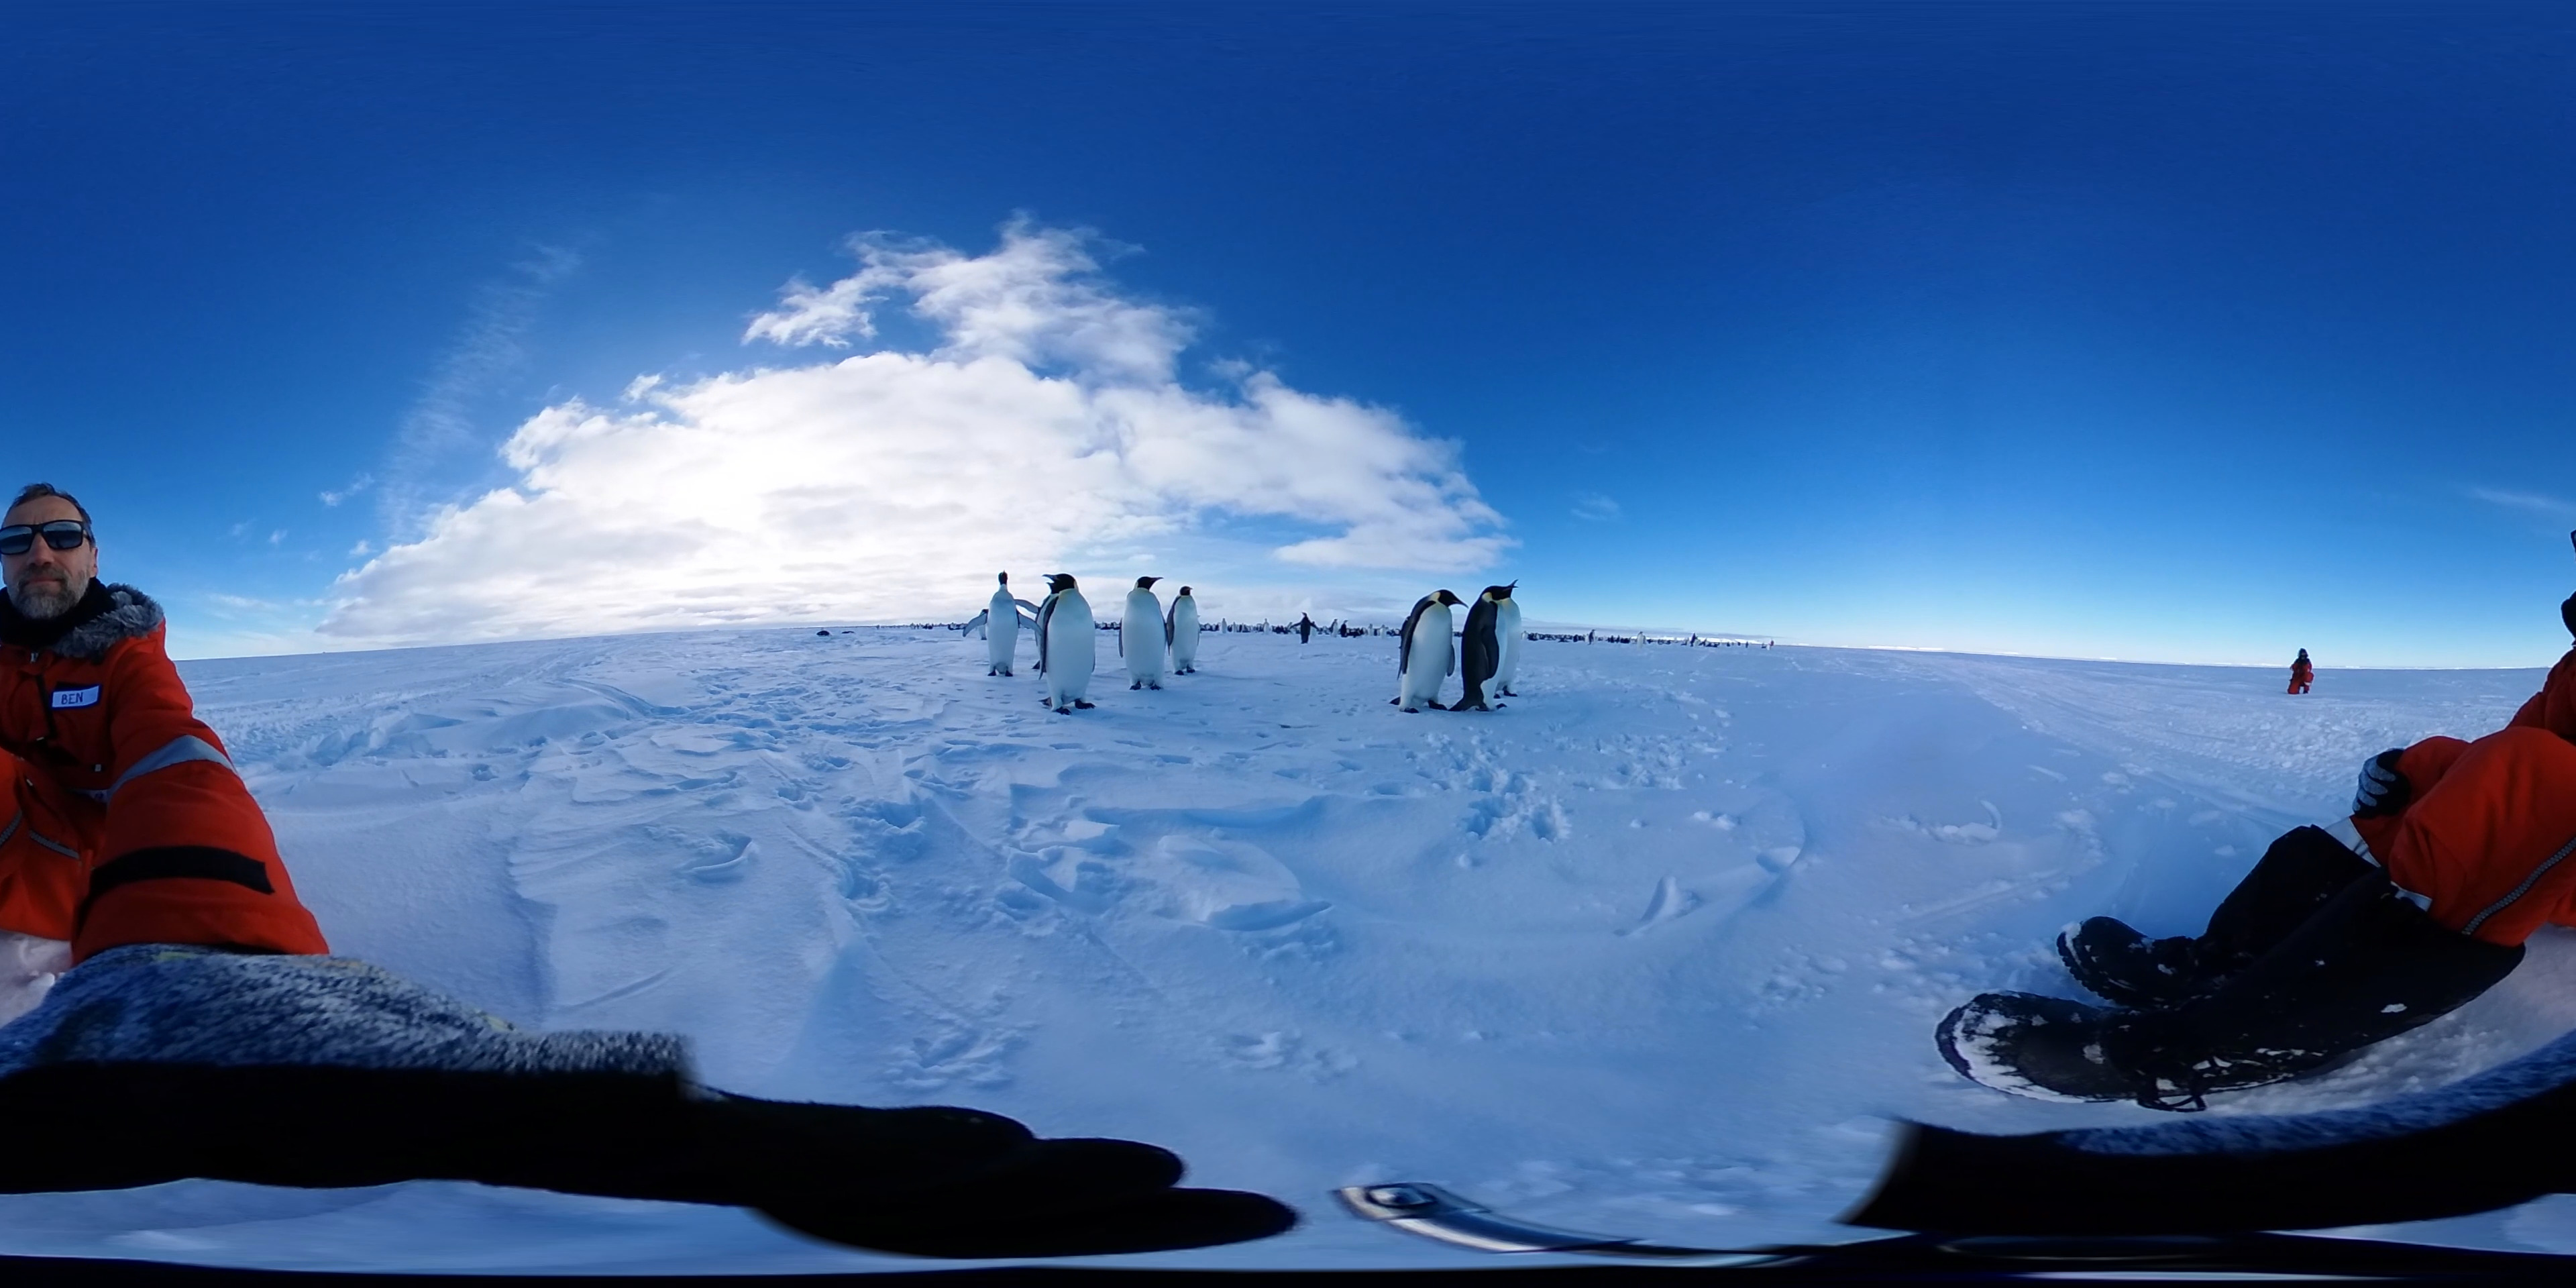adult_standing_penguin: (1387, 585, 1470, 718), (1040, 563, 1101, 718), (959, 570, 1043, 678), (1459, 575, 1510, 724), (1115, 575, 1173, 698), (1498, 575, 1529, 701), (1166, 578, 1203, 677), (1286, 608, 1321, 649)
adult_toboggan_penguin: (815, 629, 831, 637)
researcher: (1934, 508, 2576, 1053), (0, 445, 317, 1068), (2287, 647, 2318, 697)
